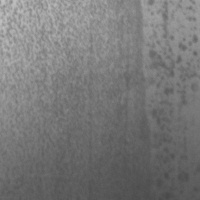pitted_surface: (0, 1, 131, 196), (149, 1, 199, 199)
